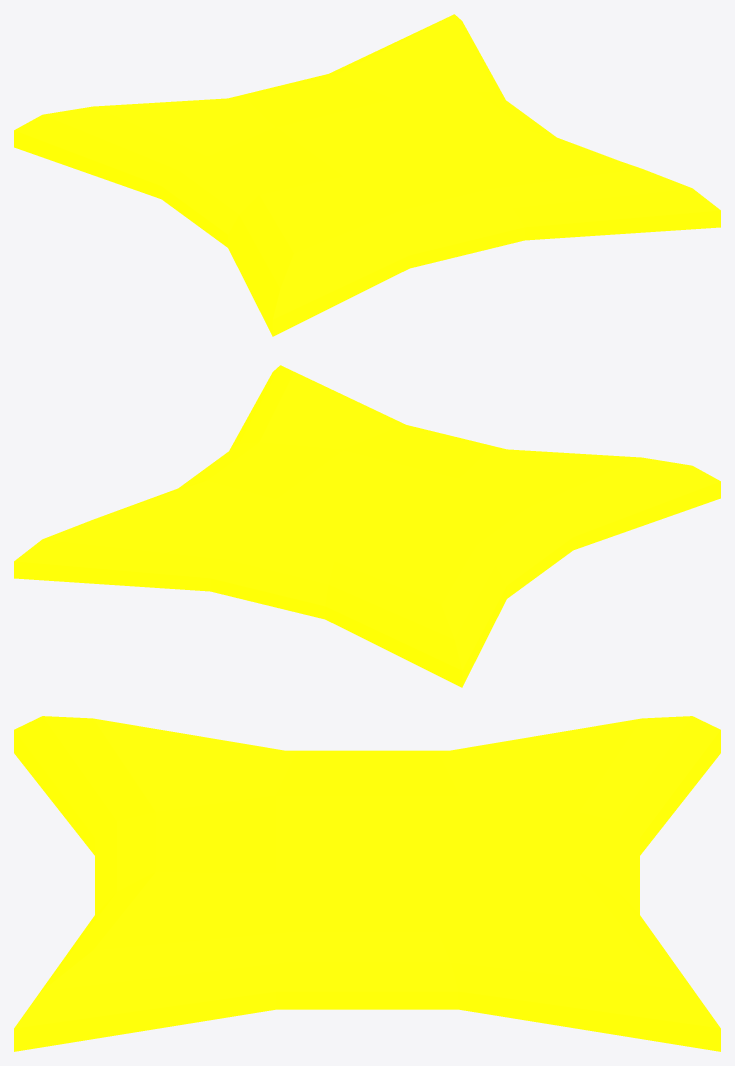
Rendered from beware.fbx.
3 renders of one model, top to bottom at view 1: azimuth 30°, elevation 25°; view 2: azimuth 150°, elevation 25°; view 3: azimuth 270°, elevation 25°, orthographic. The views are drawn at different scales.
Visible parts, largest first — view 1: Cube; view 2: Cube; view 3: Cube.
Boxes of the visible parts, x1=… form: Cube: x1=14, y1=14, x2=720, y2=336; Cube: x1=14, y1=365, x2=720, y2=687; Cube: x1=14, y1=716, x2=720, y2=1051.
Bounding box in the file's own units: 357 × 37.91 × 357.
